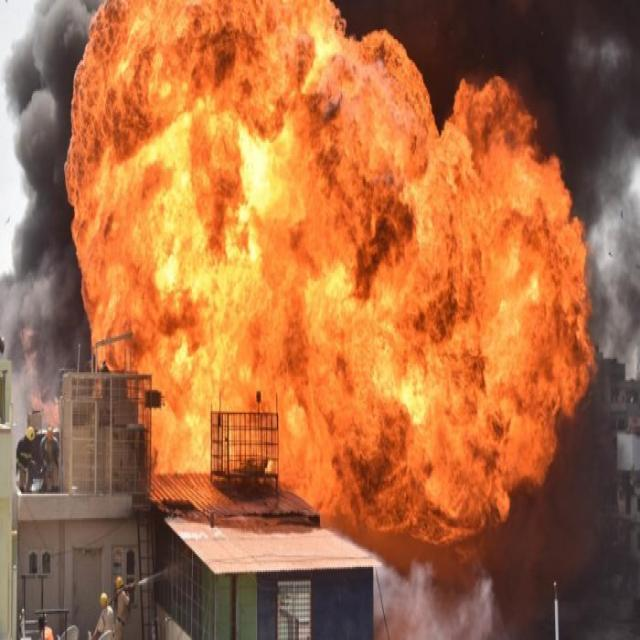Fire: (67, 0, 386, 536), (387, 79, 525, 548), (528, 138, 591, 488)
Smoke: (5, 0, 66, 415), (595, 82, 640, 499), (416, 9, 636, 78), (375, 554, 502, 640)
